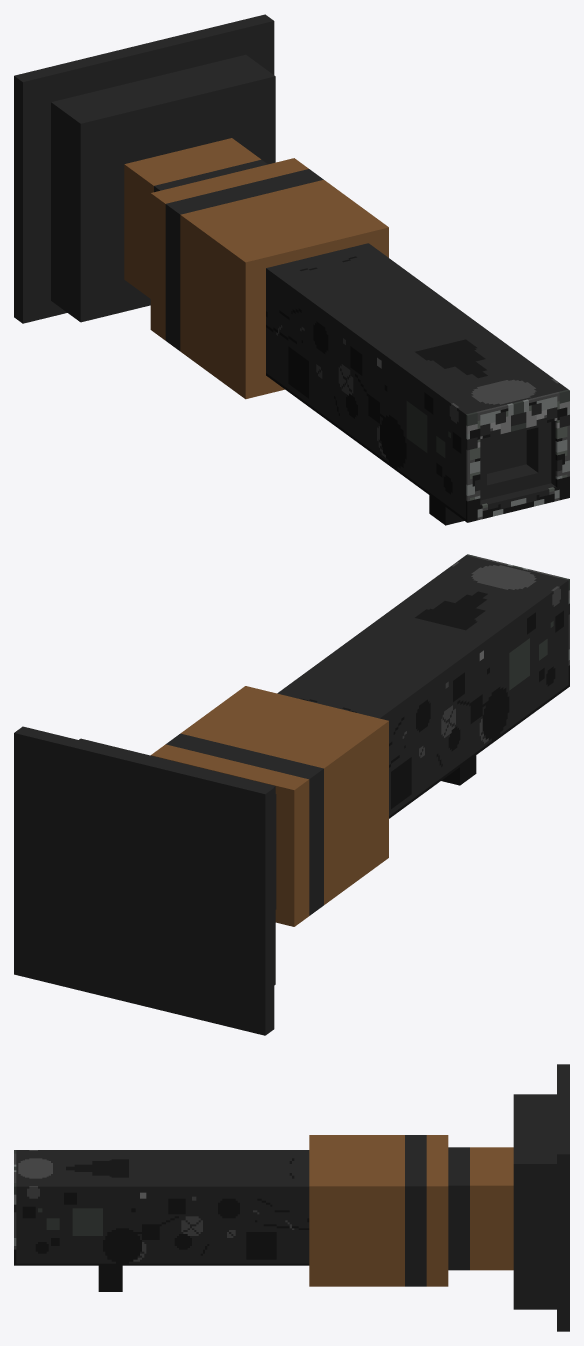
Rendered from Rocket Launcher2.obj.
3 renders of one model, top to bottom at view 1: azimuth 30°, elevation 25°; view 2: azimuth 150°, elevation 25°; view 3: azimuth 270°, elevation 25°, orthographic. The views are drawn at different scales.
Visible parts, largest first — view 1: Untitled; view 2: Untitled; view 3: Untitled.
Boxes of the visible parts, <box> form: Untitled: <box>14,14,569,525</box>; Untitled: <box>14,554,569,1035</box>; Untitled: <box>14,1064,569,1331</box>.
Bounding box in the file's own units: 9.8 × 9 × 25.6.
Materials: 1 (1 with a texture image).
